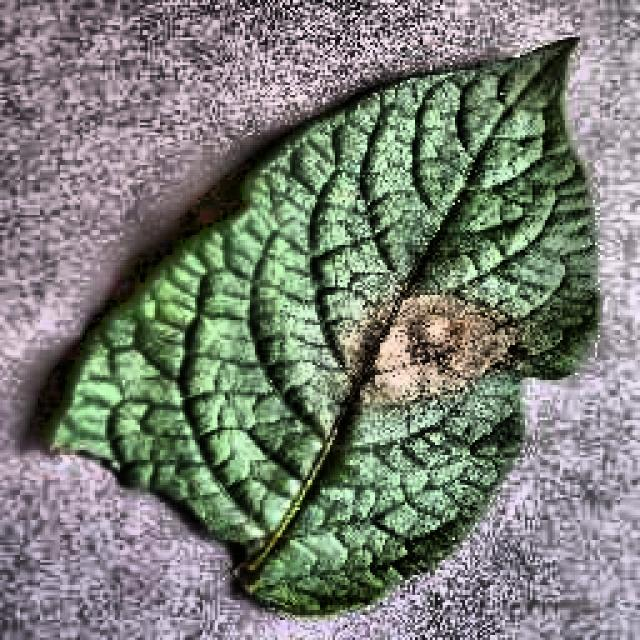Potato_leaf_late_blight: (51, 24, 628, 634)
